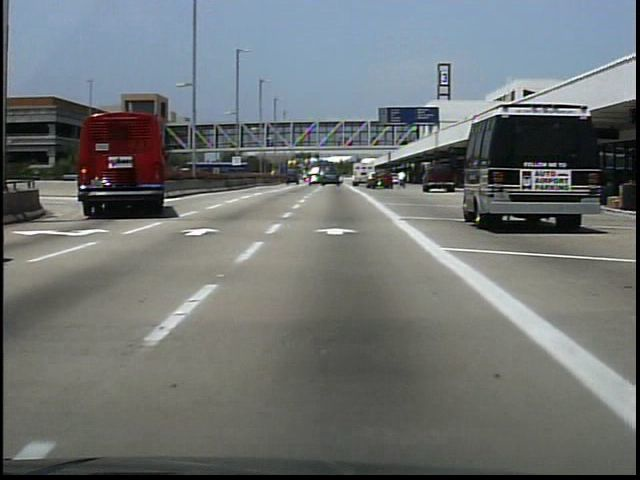person: (394, 169, 408, 191)
